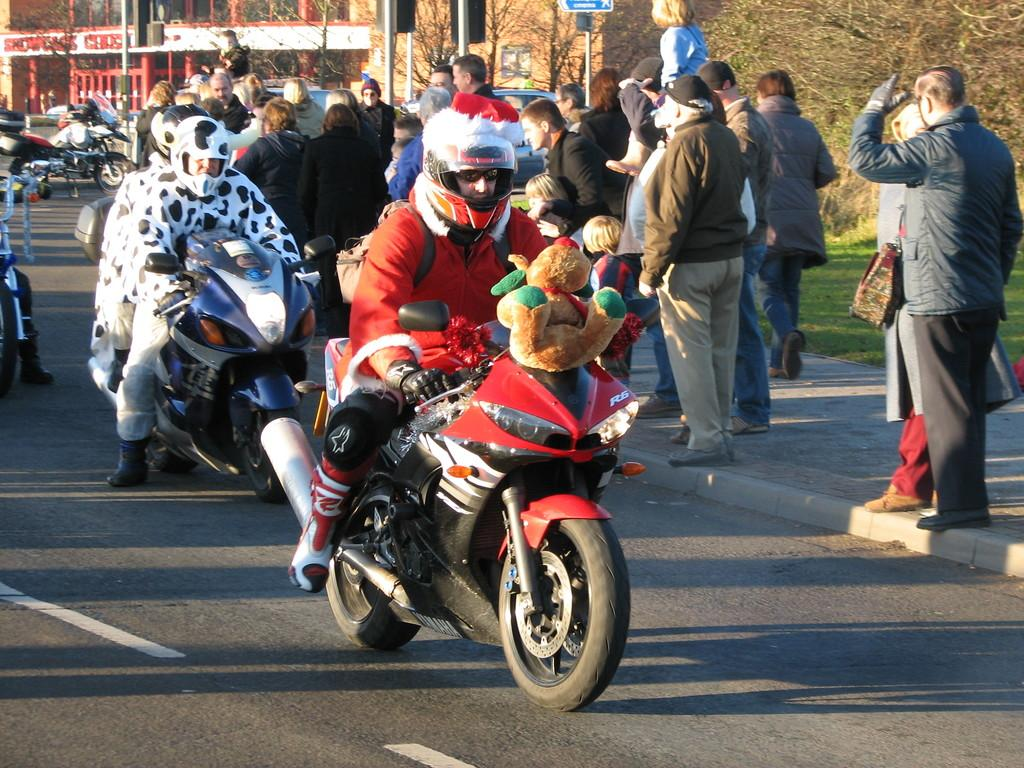helmet: (422, 122, 519, 232), (170, 115, 230, 197), (151, 103, 218, 167)
nohelmet: (913, 64, 966, 134), (663, 74, 714, 131), (519, 97, 565, 153), (581, 214, 625, 258), (755, 69, 797, 114), (525, 172, 563, 219), (589, 67, 626, 113), (451, 53, 488, 97), (262, 96, 297, 138), (553, 81, 586, 119), (324, 103, 357, 138), (209, 71, 234, 105), (283, 77, 309, 108), (151, 79, 178, 108), (360, 77, 382, 108)
